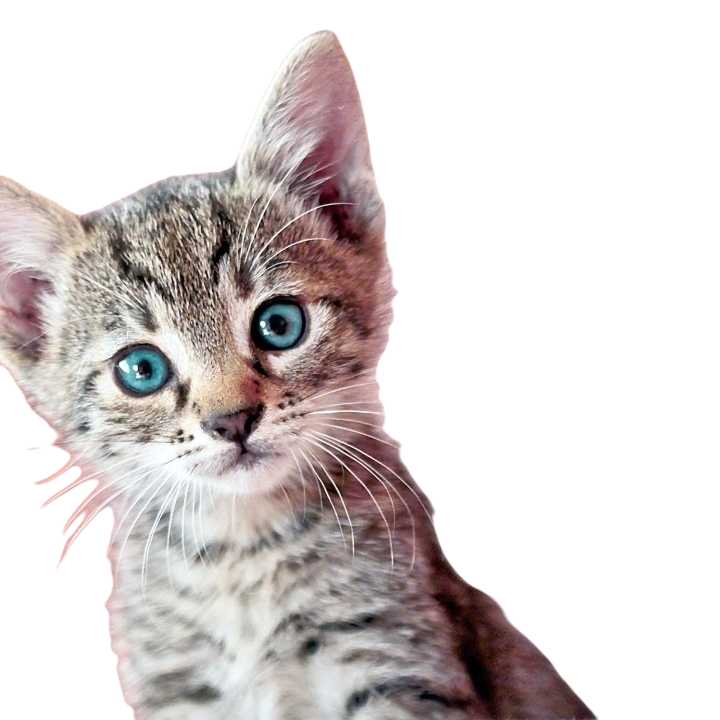Cat: (0, 28, 602, 719)
